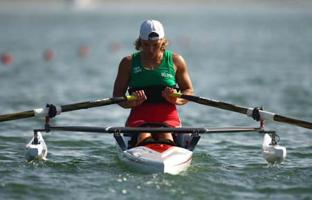person: (112, 19, 192, 145)
